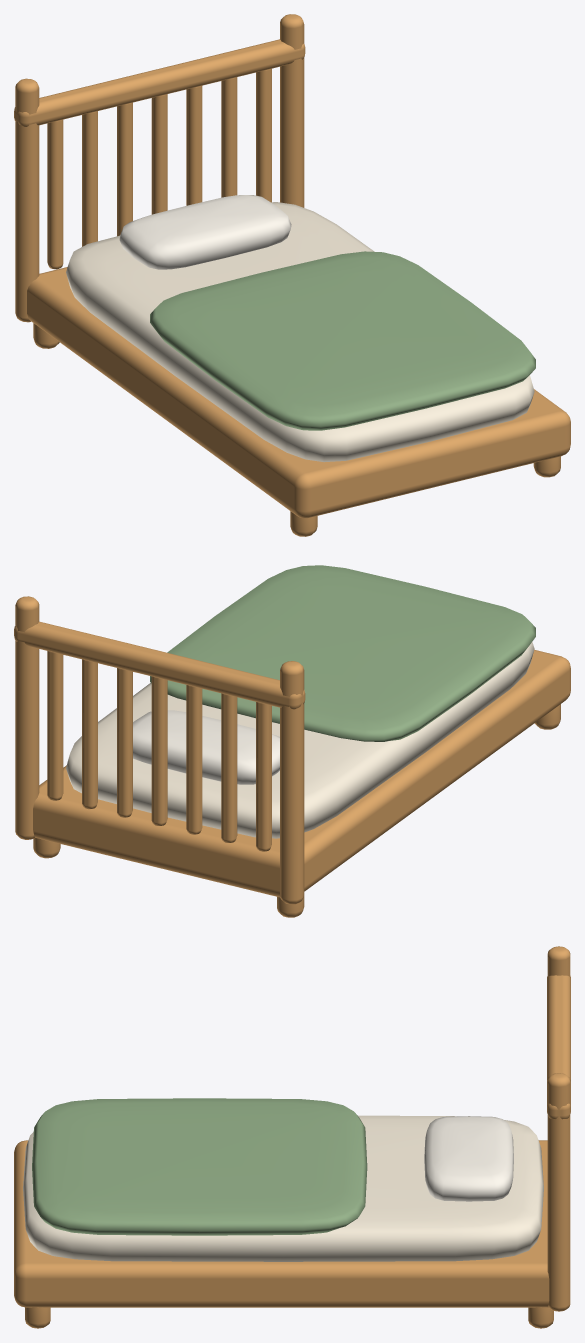
File: low_platform_bed.glb
3 renders of one model, top to bottom at view 1: azimuth 30°, elevation 25°; view 2: azimuth 150°, elevation 25°; view 3: azimuth 270°, elevation 25°, orthographic. The views are drawn at different scales.
Visible parts, largest first — view 1: low_platform_bed_mesh; view 2: low_platform_bed_mesh; view 3: low_platform_bed_mesh.
Boxes of the visible parts, x1,y1,x2,y2 form: low_platform_bed_mesh: (14,14,570,536); low_platform_bed_mesh: (14,565,570,917); low_platform_bed_mesh: (14,946,570,1328).
Size of the model in its own units: 1.08 by 0.94 by 1.86.
